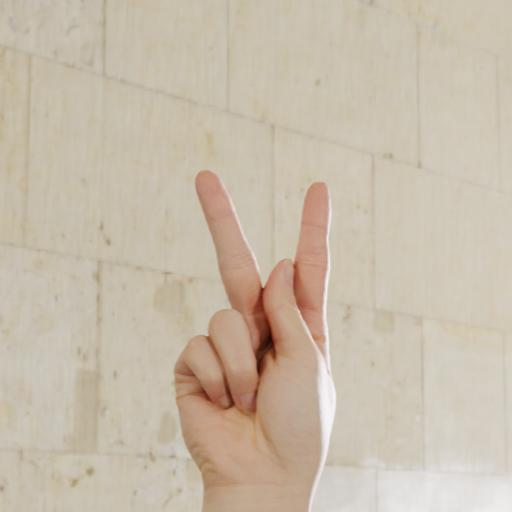K: (141, 144, 358, 500)
